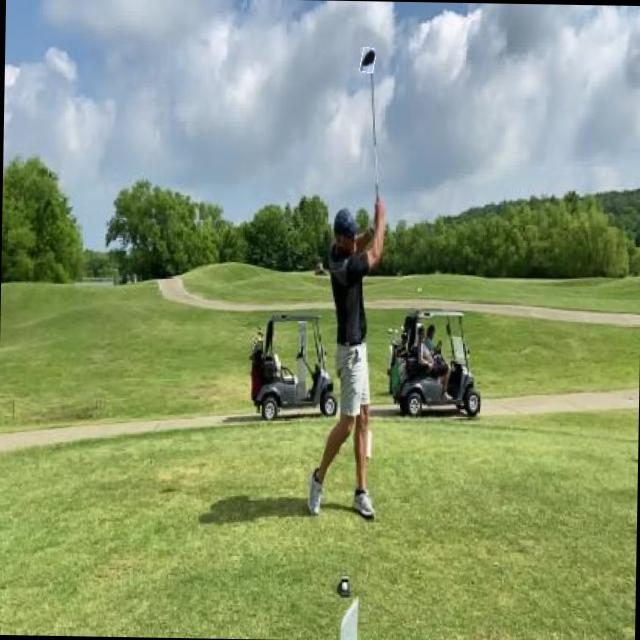club head: (360, 47, 374, 73)
